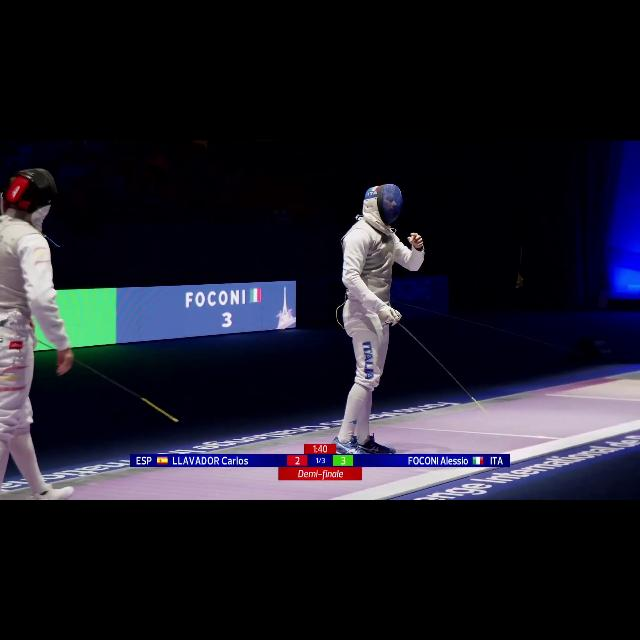blade: (35, 334, 185, 426), (388, 307, 488, 419)
